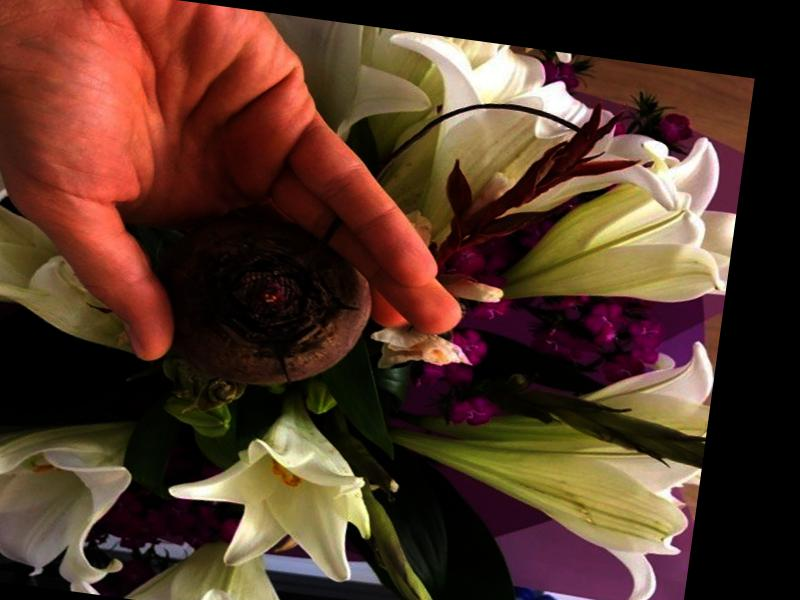Beet: (149, 200, 385, 400)
